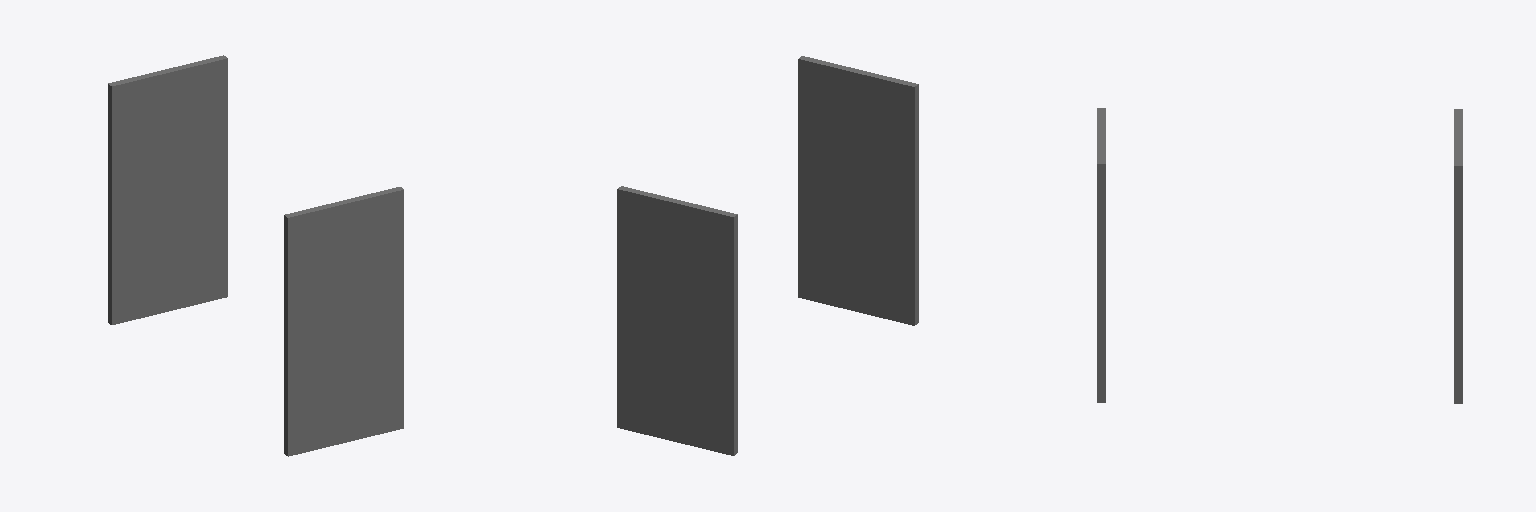
The model's file is door.obj.
3 renders of one model, left to right at view 1: azimuth 30°, elevation 25°; view 2: azimuth 150°, elevation 25°; view 3: azimuth 270°, elevation 25°, orthographic.
Visible parts, largest first — view 1: door.obj; view 2: door.obj; view 3: door.obj.
Boxes of the visible parts, x1=… form: door.obj: x1=108, y1=55, x2=403, y2=456; door.obj: x1=617, y1=56, x2=918, y2=455; door.obj: x1=1097, y1=108, x2=1462, y2=403.
Size of the model in its own units: 265 by 510 by 707.